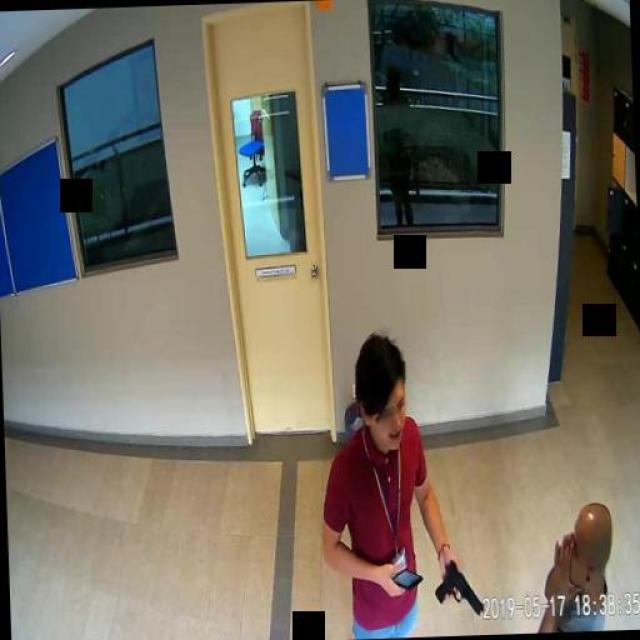gun: (432, 554, 482, 615)
